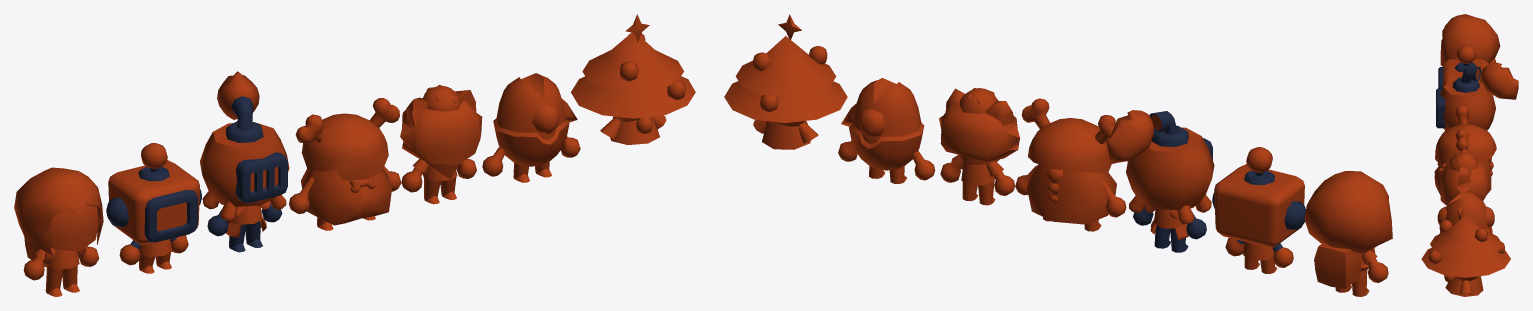
Rendered from Low-Poly_Characters.glb.
3 views of the same model, side by side, from view 1: azimuth 30°, elevation 25°; view 2: azimuth 150°, elevation 25°; view 3: azimuth 270°, elevation 25° (orthographic). The views are drawn at different scales.
Parts seen in each view (by area): view 1: hat_greener_0, hair_black_0, head_bone_0, head_grey_0, base_purple_0, head_blue_0, head_metal_0, base_salmon_0, base_magenta_0, face_bluedark_0, head_skin_0, screen_darkmetal_0 (+15 smaller); view 2: hat_greener_0, hair_black_0, head_metal_0, head_blue_0, base_purple_0, head_bone_0, head_grey_0, base_salmon_0, base_magenta_0, flame_fire_0, bag_red_0, base_greener_0 (+11 smaller); view 3: hat_greener_0, hair_black_0, head_blue_0, head_bone_0, head_grey_0, flame_fire_0, base_salmon_0, head_bluedark_0, base_greener_0, head_metal_0, hat_orange_0, face_bluedark_0 (+15 smaller).
Boxes of the visible parts, x1,y1,x2,y2 form: hat_greener_0: [571, 32, 695, 118]; hair_black_0: [14, 167, 103, 255]; head_bone_0: [301, 113, 388, 180]; head_grey_0: [400, 98, 482, 165]; base_purple_0: [301, 168, 392, 225]; head_blue_0: [200, 122, 289, 206]; head_metal_0: [108, 160, 199, 245]; base_salmon_0: [496, 73, 577, 139]; base_magenta_0: [493, 118, 569, 166]; face_bluedark_0: [236, 152, 287, 202]; head_skin_0: [46, 205, 98, 251]; screen_darkmetal_0: [144, 189, 197, 242]; hat_greener_0: [724, 36, 847, 122]; hair_black_0: [1304, 171, 1392, 253]; head_metal_0: [1214, 164, 1304, 247]; head_blue_0: [1126, 127, 1214, 210]; base_purple_0: [1027, 164, 1116, 224]; head_bone_0: [1028, 118, 1111, 173]; head_grey_0: [939, 104, 1020, 161]; base_salmon_0: [841, 80, 921, 144]; base_magenta_0: [849, 122, 924, 170]; flame_fire_0: [1106, 110, 1153, 164]; bag_red_0: [1314, 243, 1361, 288]; base_greener_0: [762, 121, 810, 149]; hat_greener_0: [1421, 215, 1510, 277]; hair_black_0: [1442, 14, 1500, 63]; head_blue_0: [1440, 78, 1495, 130]; head_bone_0: [1435, 124, 1496, 165]; head_grey_0: [1440, 160, 1489, 205]; flame_fire_0: [1480, 62, 1518, 99]; base_salmon_0: [1445, 193, 1491, 230]; head_bluedark_0: [1452, 66, 1481, 92]; base_greener_0: [1445, 276, 1483, 296]; head_metal_0: [1443, 59, 1488, 86]; hat_orange_0: [1450, 152, 1477, 171]; face_bluedark_0: [1436, 88, 1445, 128].
Bounding box in the file's own units: 0.4222 × 0.0918 × 0.075.
